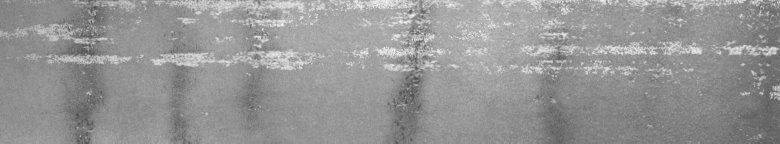hc: (391, 10, 440, 109)
